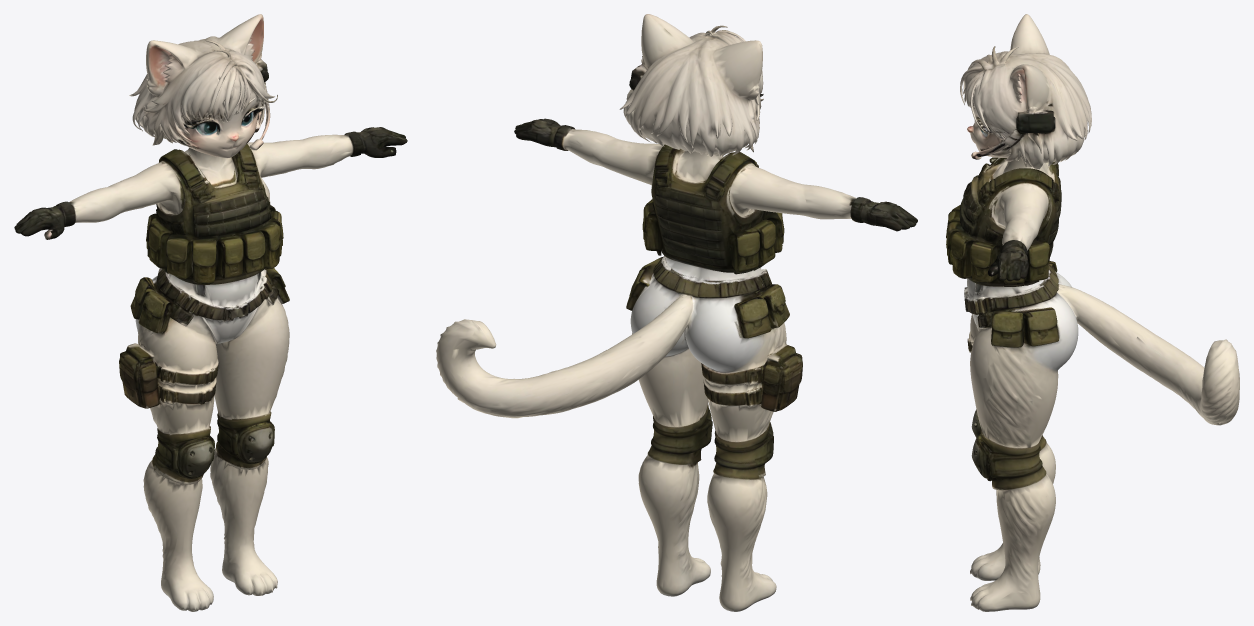
Rendered from cat-soldier-variant-regen-50k-webp2k-safe-nogun.glb.
3 views of the same model, side by side, from view 1: azimuth 30°, elevation 25°; view 2: azimuth 150°, elevation 25°; view 3: azimuth 270°, elevation 25° (orthographic). The views are drawn at different scales.
Visible parts, largest first — view 1: material; view 2: material; view 3: material.
Part boxes in pixels (x1,y1,x2,y2): material: (14, 14, 407, 611); material: (436, 14, 917, 611); material: (946, 14, 1239, 611).
Size of the model in its own units: 0.7351 by 1.01 by 0.4869.
1 material, 1 textured.
